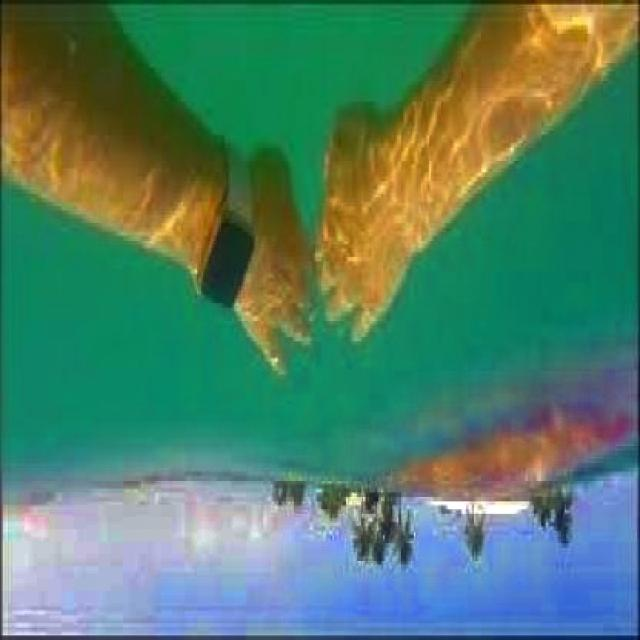electronics: (202, 130, 256, 328)
